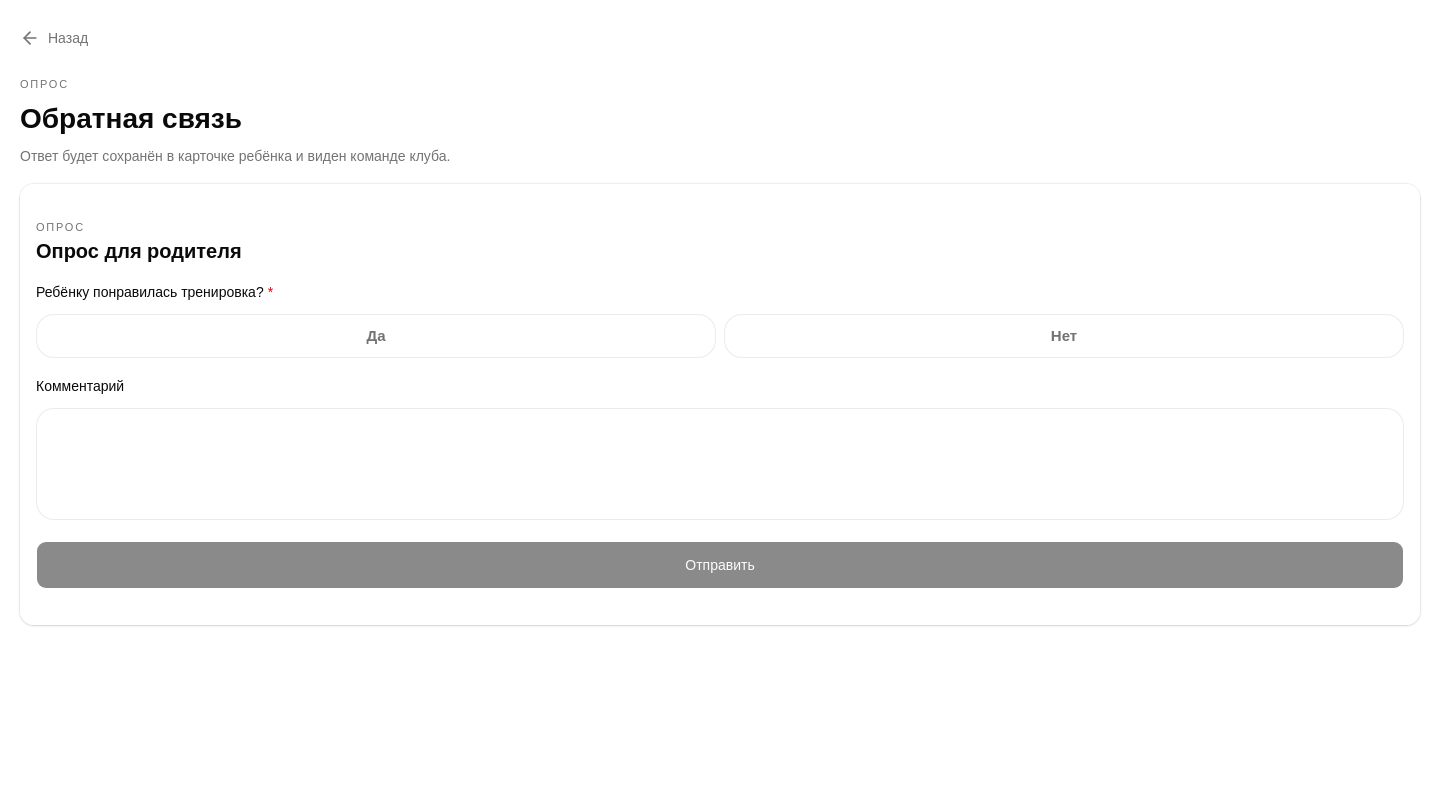
Test: ParentFeedback › shows duplicate state for an existing child response
Click the button "Нет" at (1064, 336), box [724, 314, 1404, 358]
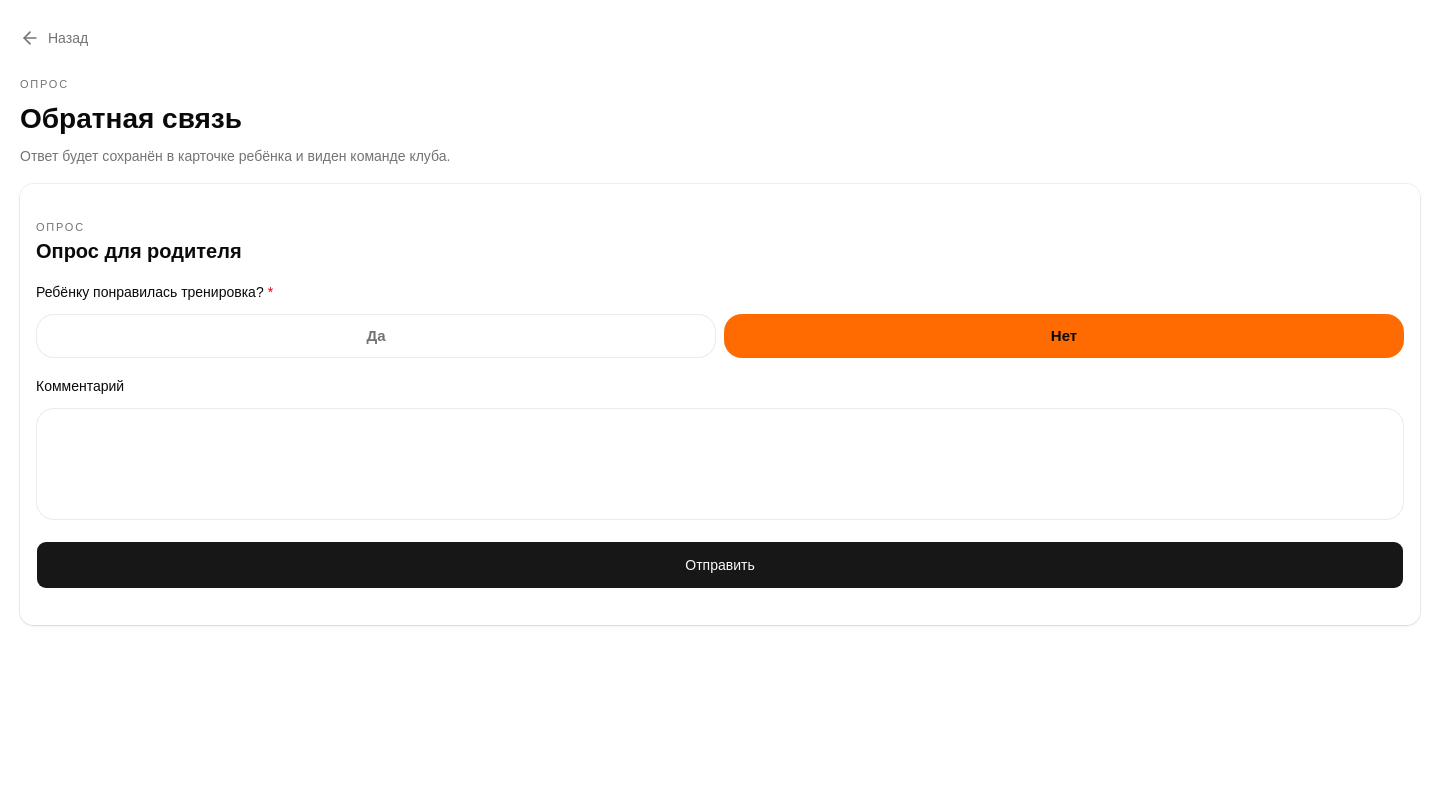
Click the button "Отправить" at (720, 565), box [36, 541, 1404, 589]
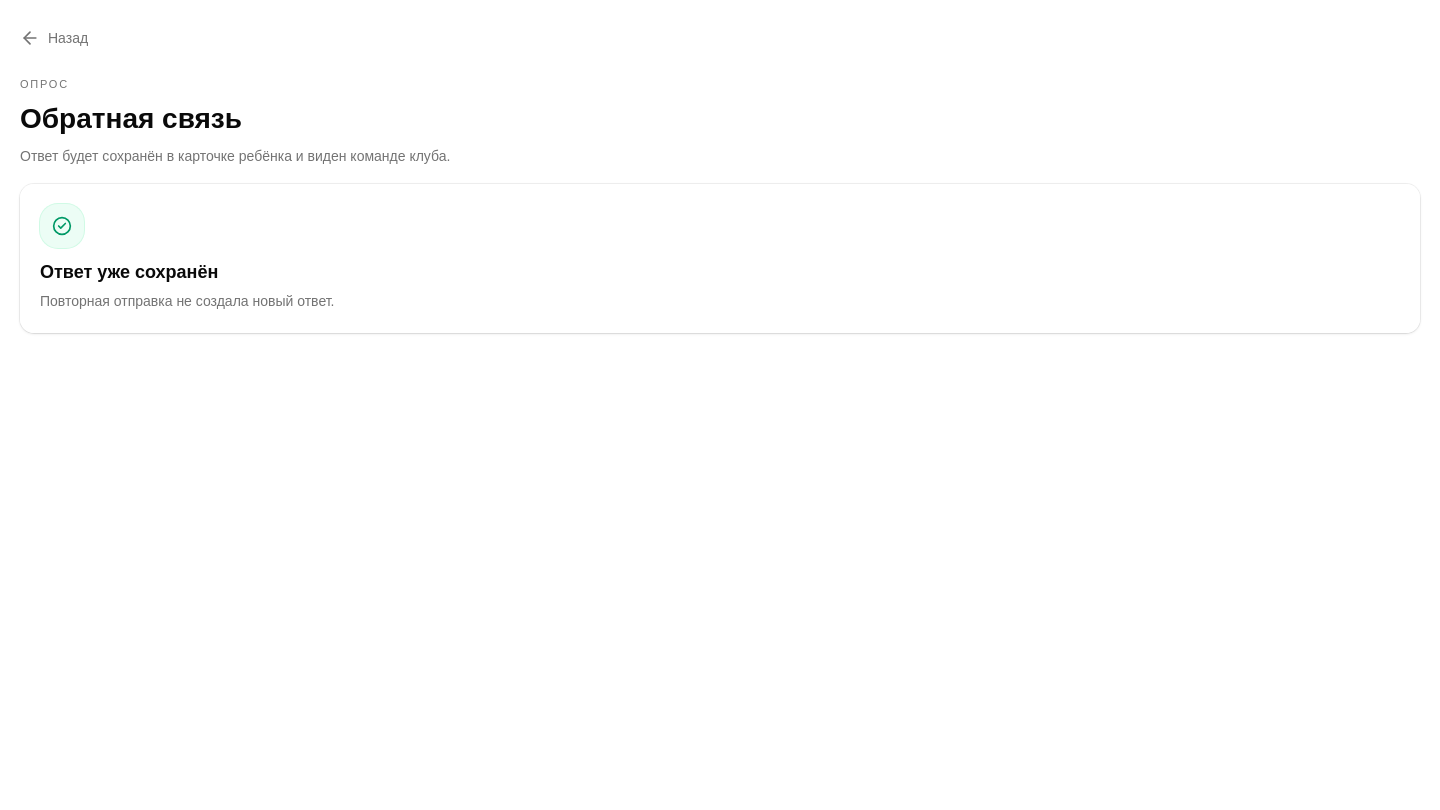
expect the text "Ответ уже сохранён" is shown: met, box [40, 262, 218, 282]
